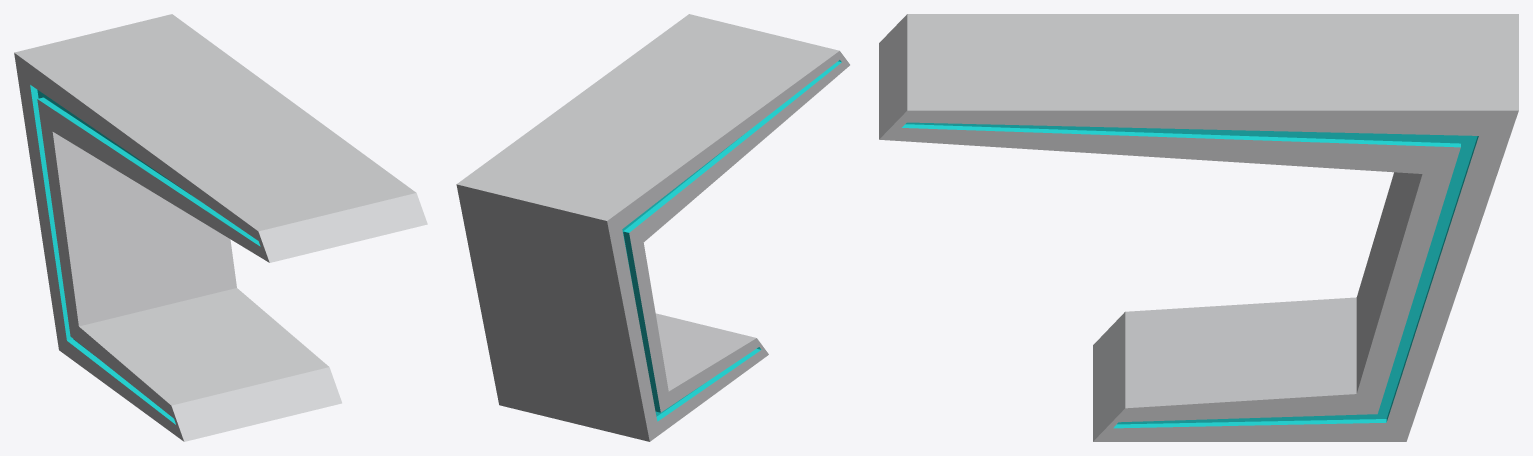
Rendered from SM_High_Shelf_01.fbx.
The picture shows the model from 3 angles, left to right: view 1: azimuth 30°, elevation 25°; view 2: azimuth 150°, elevation 25°; view 3: azimuth 270°, elevation 25°; orthographic projection. The views are drawn at different scales.
Visible parts, largest first — view 1: pCube1; view 2: pCube1; view 3: pCube1.
Boxes of the visible parts, x1,y1,x2,y2 form: pCube1: (14,14,427,441); pCube1: (456,14,849,441); pCube1: (879,14,1518,441).
Bounding box in the file's own units: 50 × 80 × 140.
